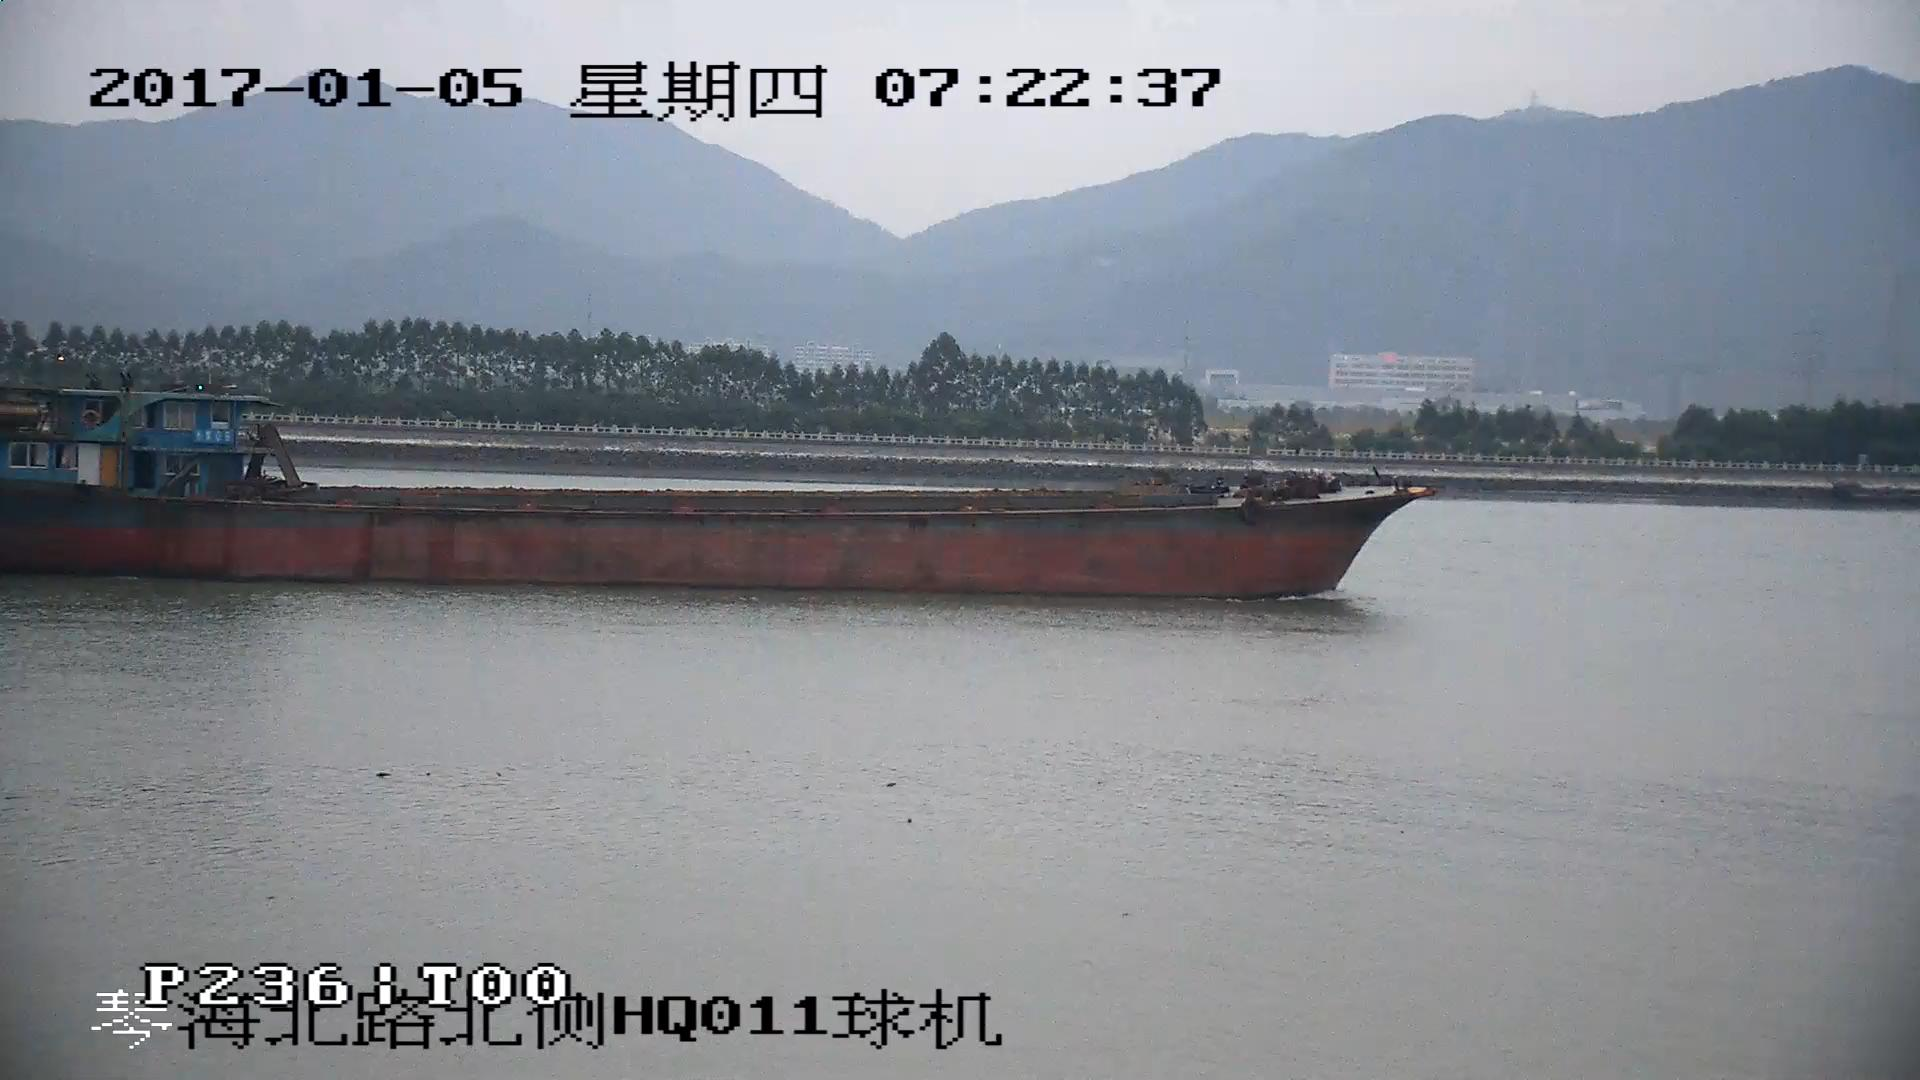bulk cargo carrier: (1, 389, 1423, 596)
